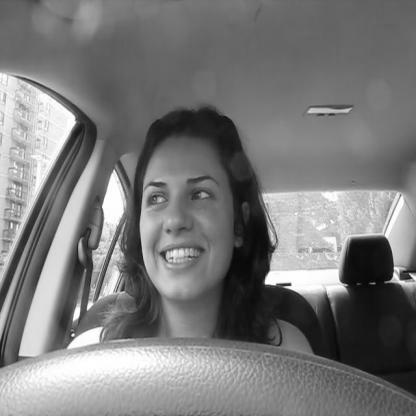no_seatbelt: (72, 105, 284, 346)
